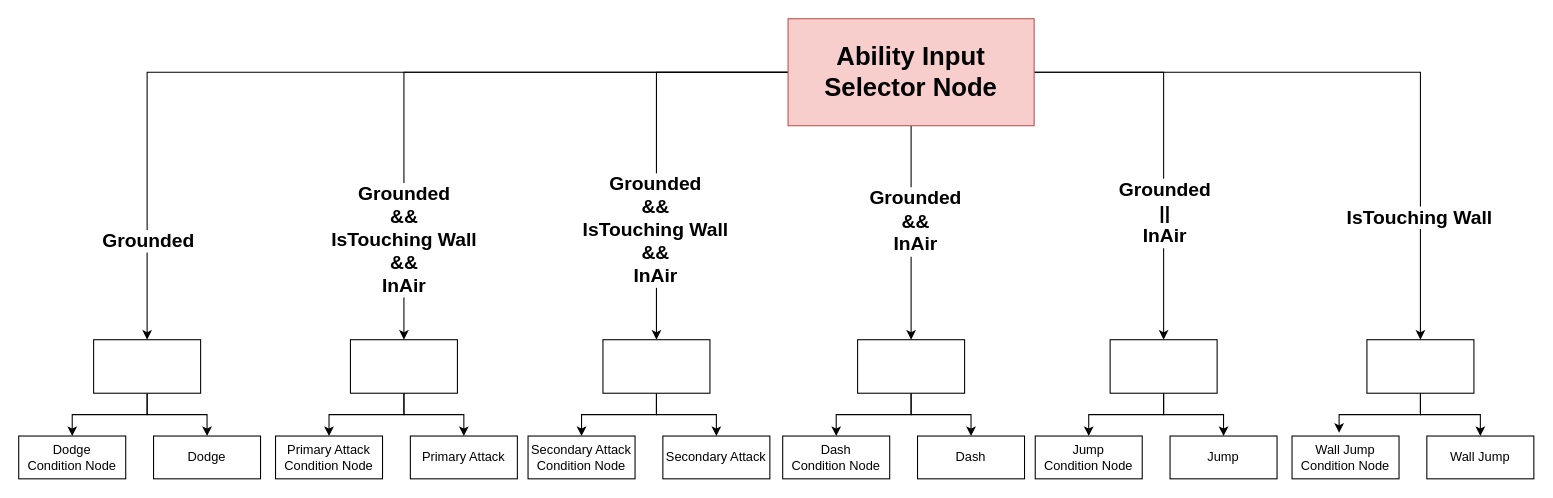
The diagram is 1553 pixels wide and 498 high, and some of its shapes have lost their labels. The shapes that lost their labels are listed below. From the top down, each one's centre as x and y in pixels, then its label:
pixel 147 366: Dodge Sequencer Node
pixel 403 366: Primary Attack Sequencer Node
pixel 656 366: Secondary Attack Sequencer Node
pixel 911 366: Dash Sequencer Node
pixel 1163 366: Jump Sequencer Node
pixel 1420 366: WallJump Sequencer Node
